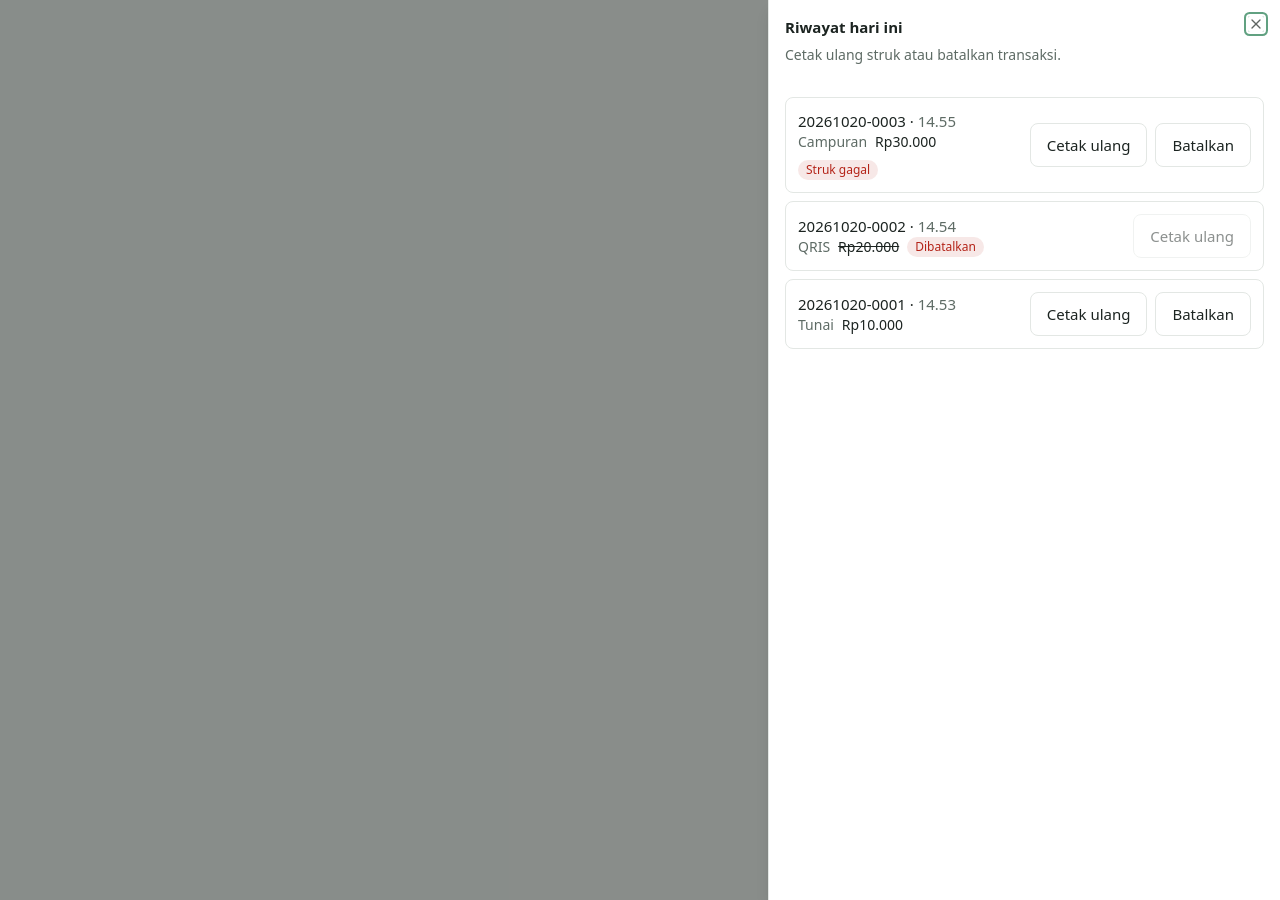
Test case: Cetak ulang memanggil print dan menampilkan 'Struk dicetak'
Expected: the text "20261020-0003 · 14.55" is shown, [798, 110, 956, 130]
Click the button with aria-label "Cetak ulang 20261020-0003" at {"x": 1089, "y": 145}, box [1030, 123, 1147, 167]
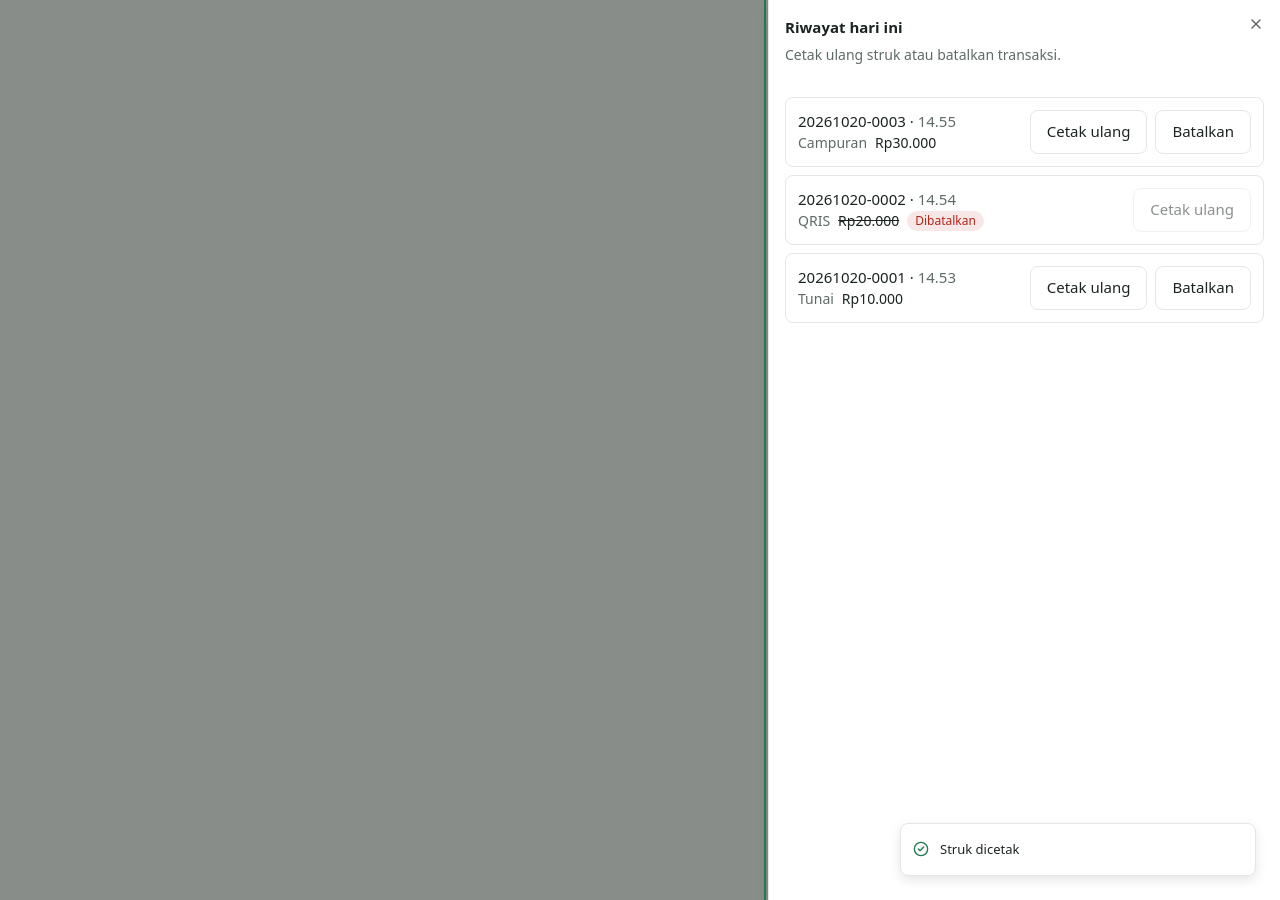
Expected: the text "Struk dicetak" is shown, [940, 840, 1019, 859]
Expected: the text "Struk gagal" is gone
